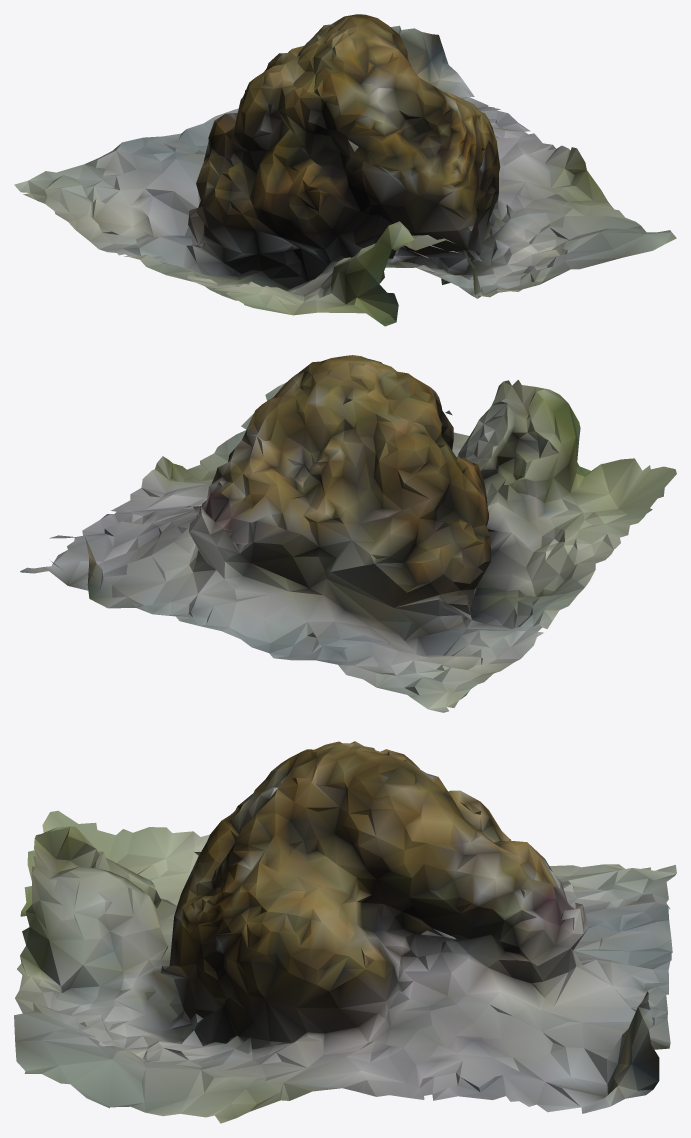
File: brain2.glb
3 views of the same model, one above another, from view 1: azimuth 30°, elevation 25°; view 2: azimuth 150°, elevation 25°; view 3: azimuth 270°, elevation 25° (orthographic). The views are drawn at different scales.
Parts seen in each view (by area): view 1: brain2; view 2: brain2; view 3: brain2.
Part boxes in pixels (x1,y1,x2,y2): brain2: (14, 14, 676, 326); brain2: (20, 355, 676, 712); brain2: (14, 741, 676, 1123).
Bounding box in the file's own units: 9.26 × 4.73 × 9.81.
